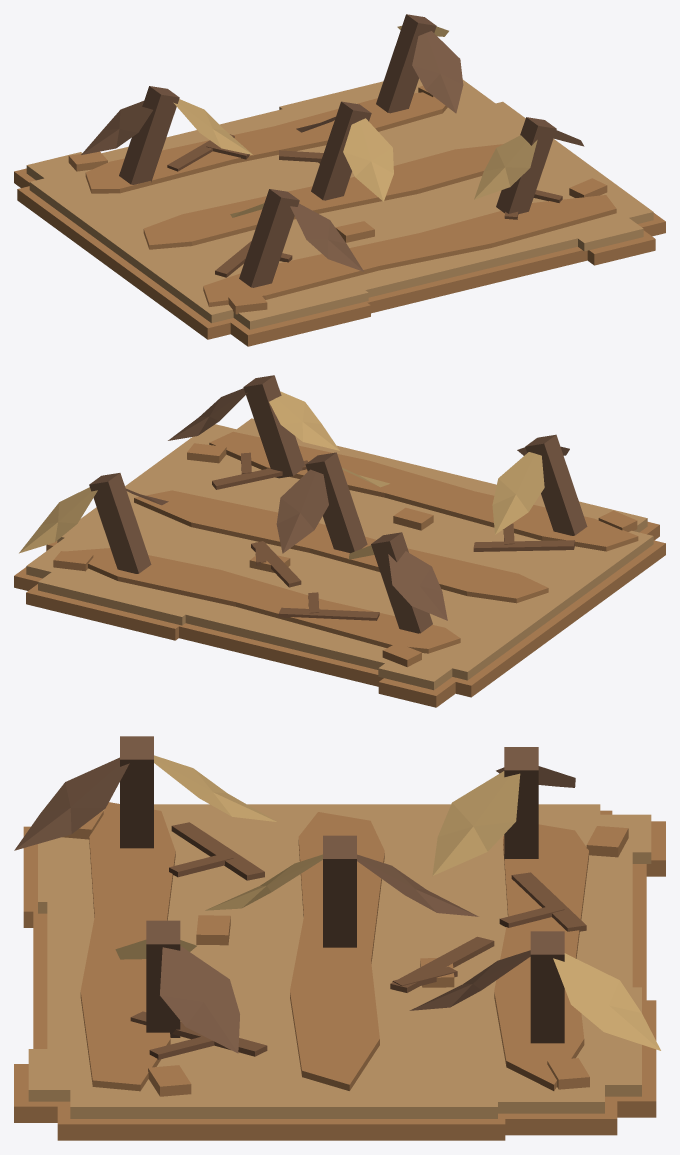
Rendered from plot-withered.glb.
3 views of the same model, one above another, from view 1: azimuth 30°, elevation 25°; view 2: azimuth 150°, elevation 25°; view 3: azimuth 270°, elevation 25° (orthographic). The views are drawn at different scales.
Parts seen in each view (by area): view 1: Bent stem; view 2: Bent stem; view 3: Bent stem.
Boxes of the visible parts, x1,y1,x2,y2 form: Bent stem: (14, 14, 665, 346); Bent stem: (14, 375, 665, 707); Bent stem: (14, 736, 665, 1140).
Bounding box in the file's own units: 1.77 × 0.403 × 1.55.
